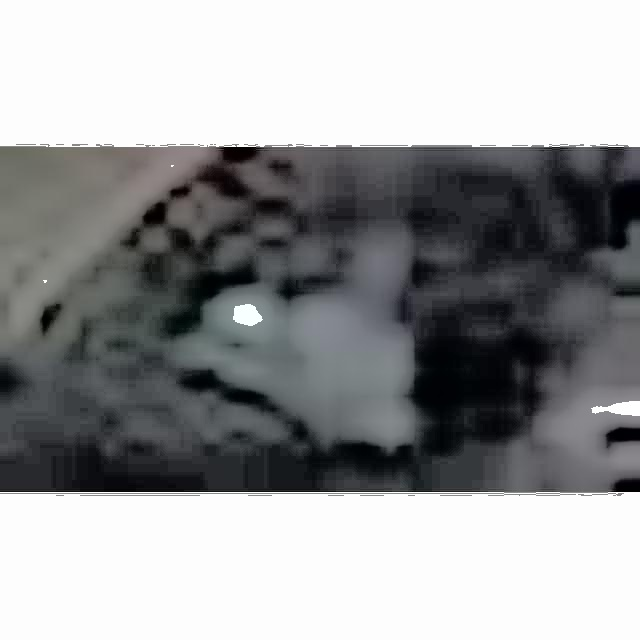pakai: (128, 224, 422, 467)
